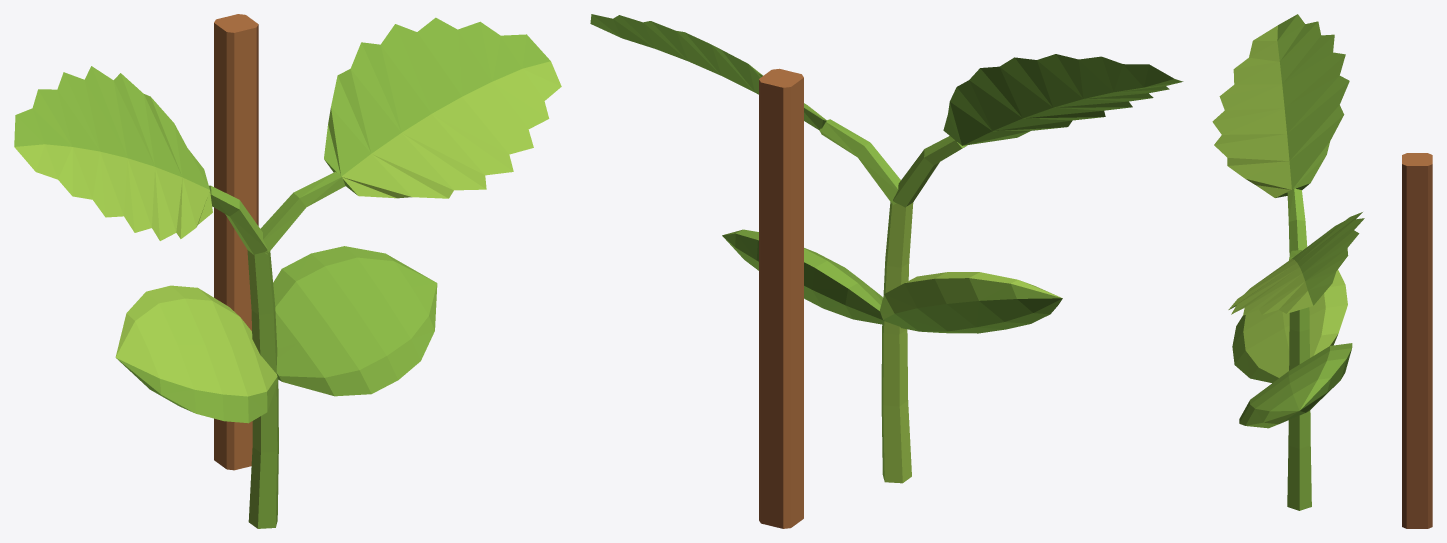
File: FMS_Crop_Tomato_S1.fbx
The picture shows the model from 3 angles, left to right: view 1: azimuth 30°, elevation 25°; view 2: azimuth 150°, elevation 25°; view 3: azimuth 270°, elevation 25°; orthographic projection. The views are drawn at different scales.
Parts seen in each view (by area): view 1: FMS_Crop_Tomato_S1; view 2: FMS_Crop_Tomato_S1; view 3: FMS_Crop_Tomato_S1.
Boxes of the visible parts, <box> form: FMS_Crop_Tomato_S1: <box>14,14,561,528</box>; FMS_Crop_Tomato_S1: <box>590,14,1183,528</box>; FMS_Crop_Tomato_S1: <box>1212,14,1432,528</box>.
Size of the model in its own units: 0.4539 by 0.3731 by 0.1871.
